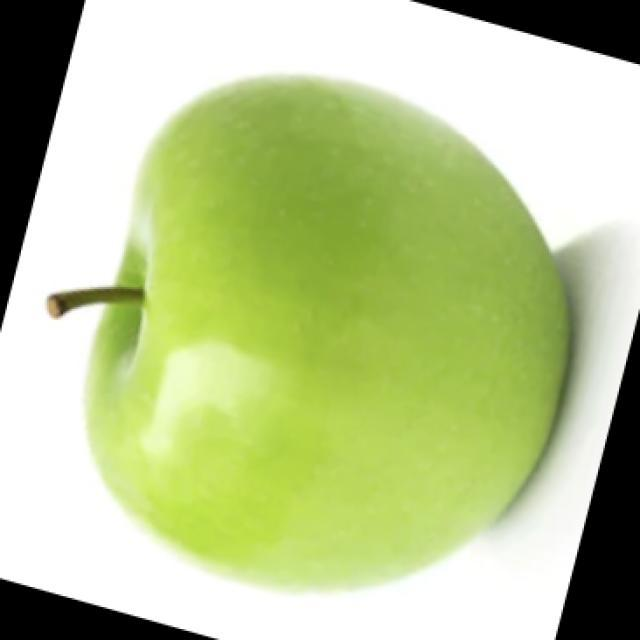Fresh Apple: (87, 85, 558, 568)
